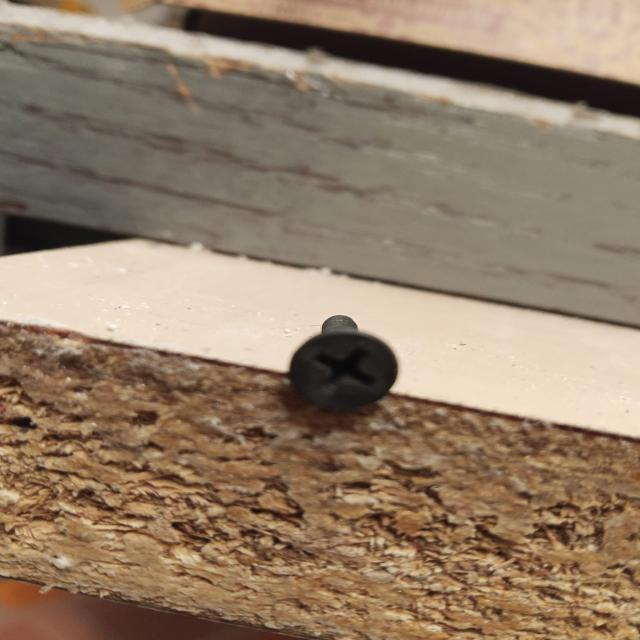phillips: (289, 331, 399, 412)
